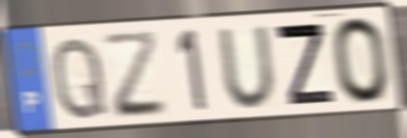1: (174, 26, 212, 115)
O: (329, 14, 393, 107)
Q: (49, 33, 110, 124)
U: (215, 23, 280, 112)
Z: (100, 28, 170, 122), (271, 21, 338, 108)
